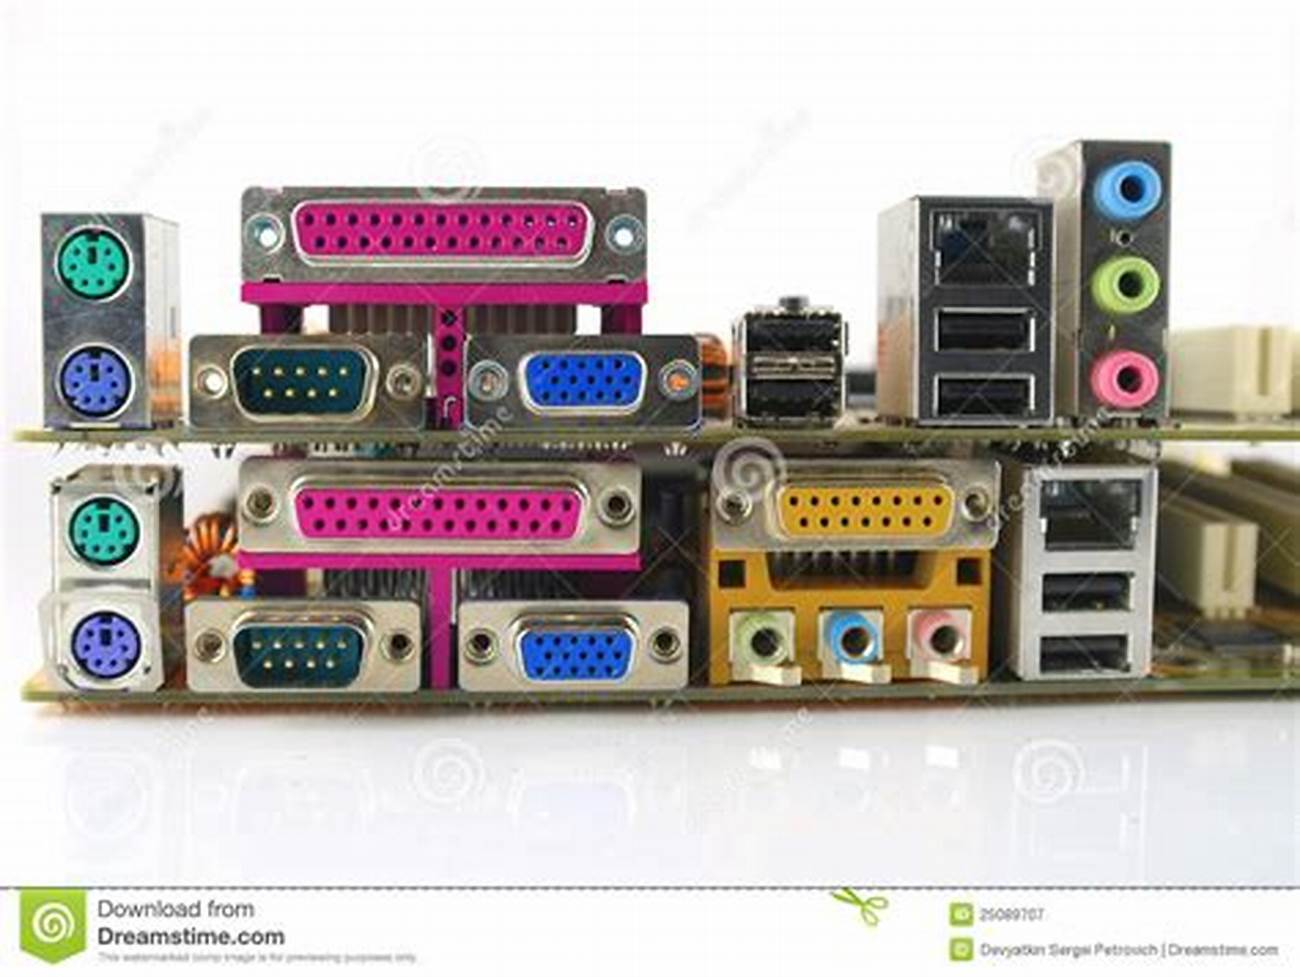Ethernet: (923, 201, 1052, 290), (1029, 469, 1151, 558)
USB: (930, 297, 1048, 366), (920, 364, 1043, 428), (1028, 566, 1151, 620), (1028, 630, 1139, 682)
VGA: (507, 349, 660, 421), (506, 620, 645, 689)
